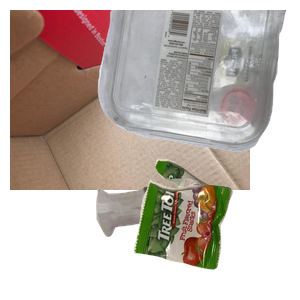cardboard: (10, 10, 250, 190)
glass: (94, 184, 253, 300)
plastic: (95, 10, 300, 154)
trash: (131, 156, 300, 300)
